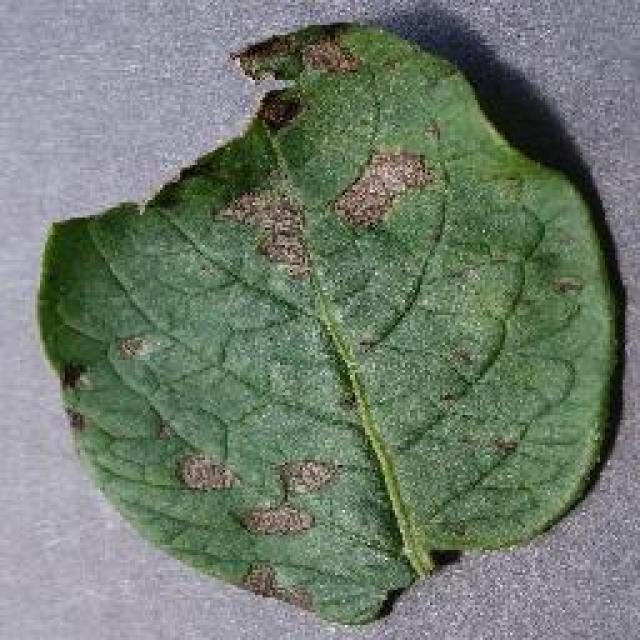early_blight: (30, 15, 630, 630)
